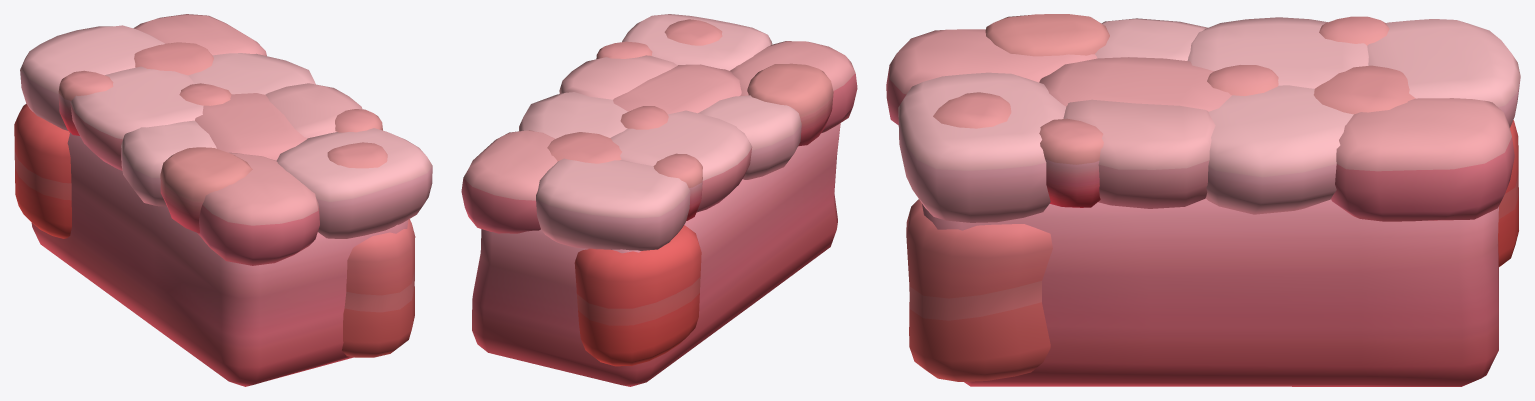
Rendered from Platform_B_04.glb.
3 renders of one model, left to right at view 1: azimuth 30°, elevation 25°; view 2: azimuth 150°, elevation 25°; view 3: azimuth 270°, elevation 25°, orthographic. The views are drawn at different scales.
Parts seen in each view (by area): view 1: Platform_B_04; view 2: Platform_B_04; view 3: Platform_B_04.
Boxes of the visible parts, x1,y1,x2,y2 form: Platform_B_04: (14, 14, 432, 386); Platform_B_04: (461, 14, 857, 386); Platform_B_04: (886, 14, 1520, 386).
Size of the model in its own units: 7.11 by 6 by 12.86.
Materials: 1 (1 with a texture image).
